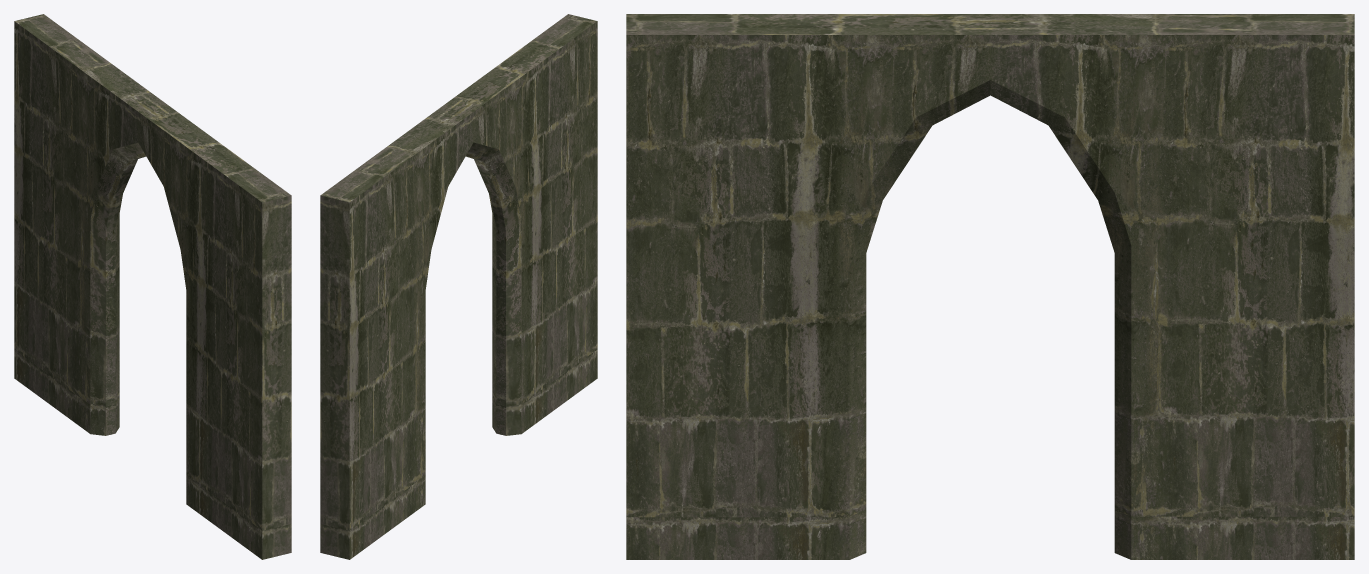
Rendered from Wall_Arch.fbx.
3 renders of one model, left to right at view 1: azimuth 30°, elevation 25°; view 2: azimuth 150°, elevation 25°; view 3: azimuth 270°, elevation 25°, orthographic. The views are drawn at different scales.
Parts seen in each view (by area): view 1: DoubleDoorway.001; view 2: DoubleDoorway.001; view 3: DoubleDoorway.001.
Boxes of the visible parts, x1,y1,x2,y2 form: DoubleDoorway.001: (14, 14, 291, 559); DoubleDoorway.001: (320, 14, 597, 559); DoubleDoorway.001: (626, 14, 1354, 559).
Size of the model in its own units: 51 by 595 by 748.
